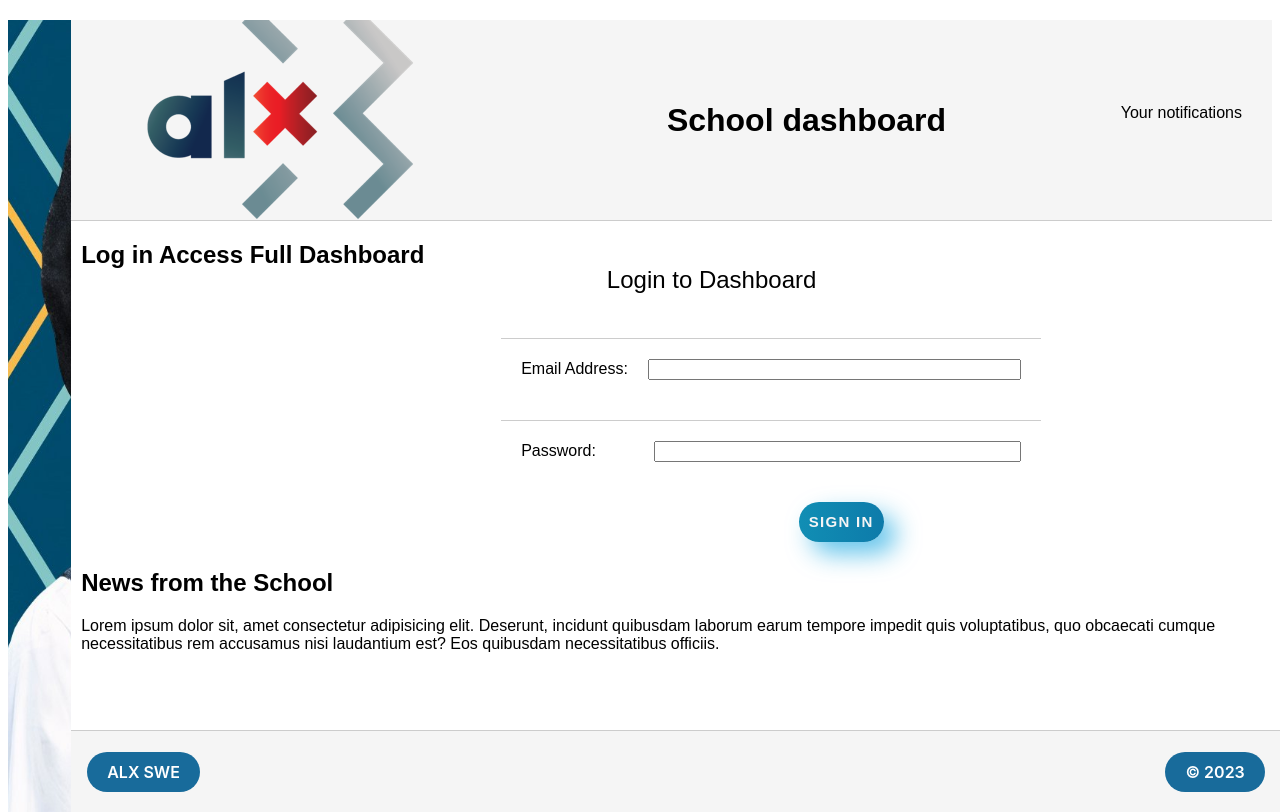
Test: Dashboard Component › shows notifications when "Your notifications" is clicked
Click the text "Your notifications" at coordinates (1181, 117), box [1121,112,1242,122]
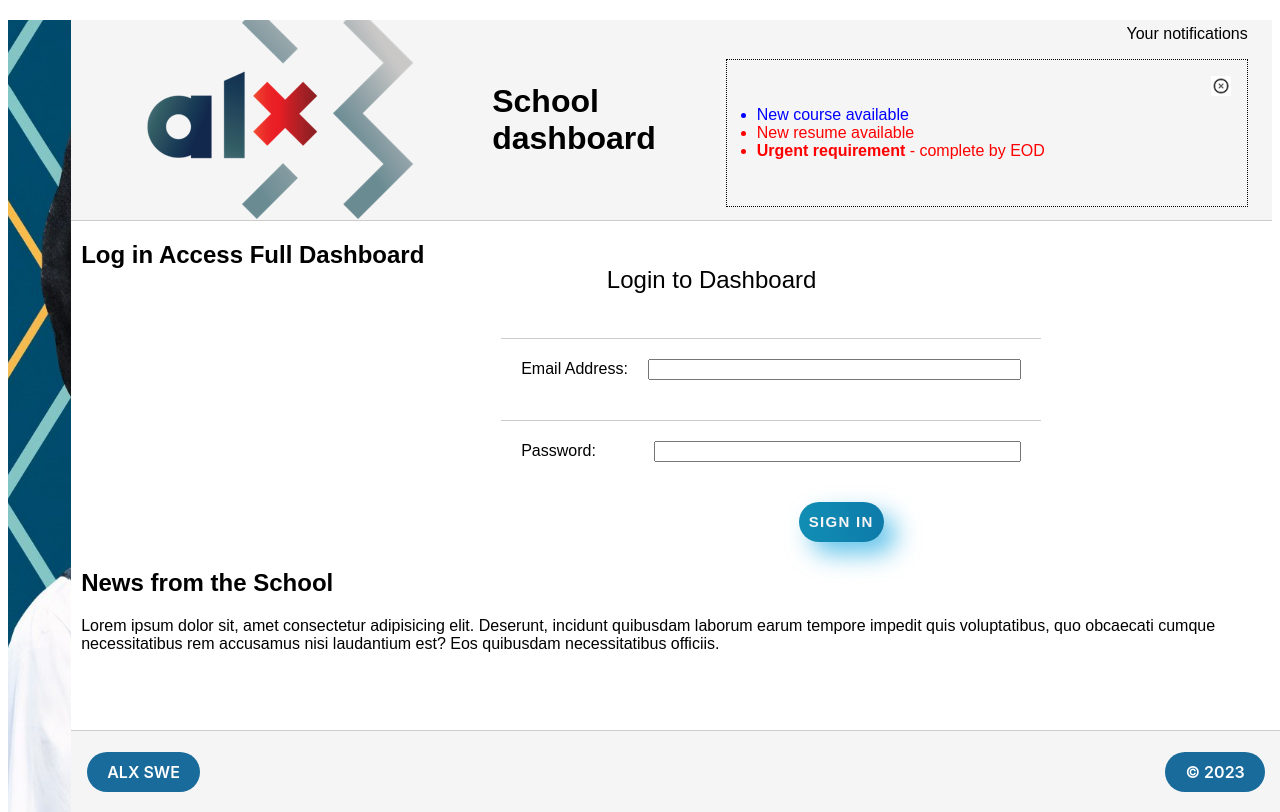
Expected: the list item "New course available" is shown, [757,106,909,123]
Expected: the list item "New resume available" is shown, [757,124,914,141]
